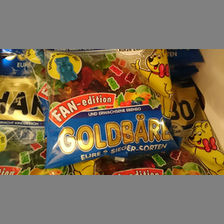candy: (43, 47, 182, 167)
